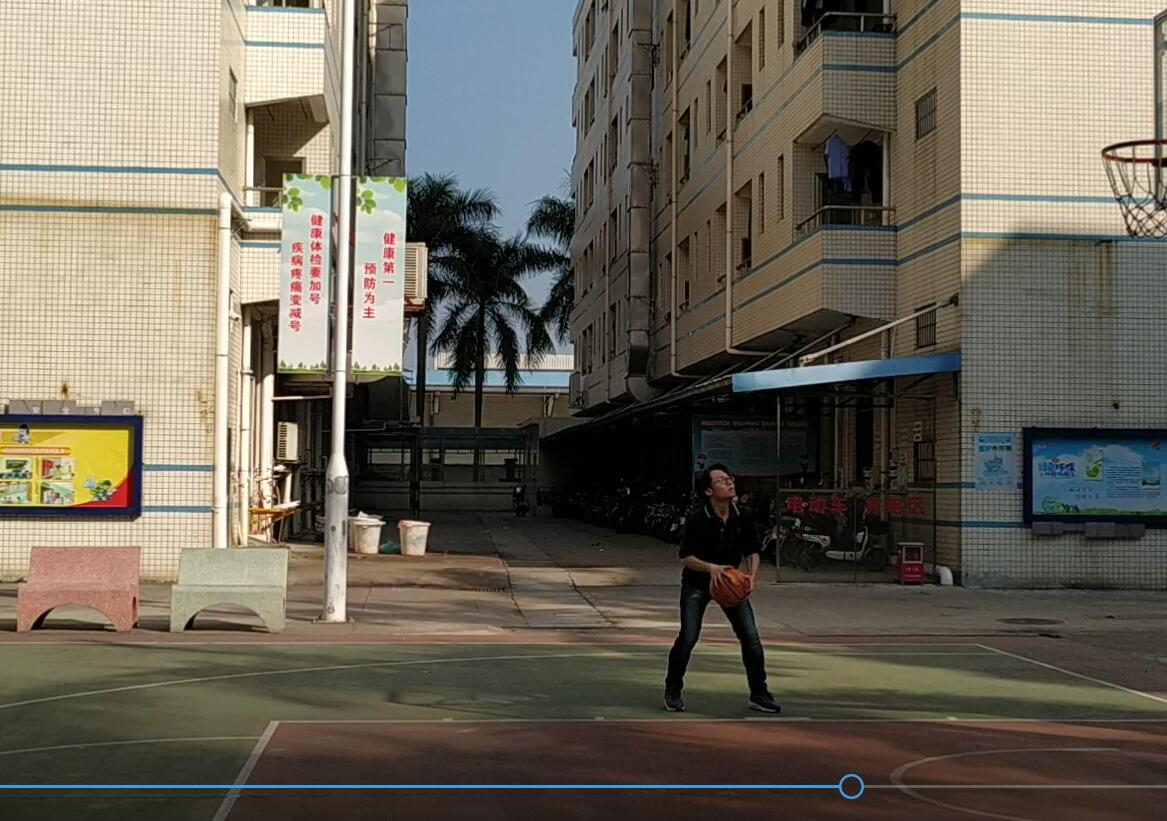basketball: (706, 566, 754, 615)
